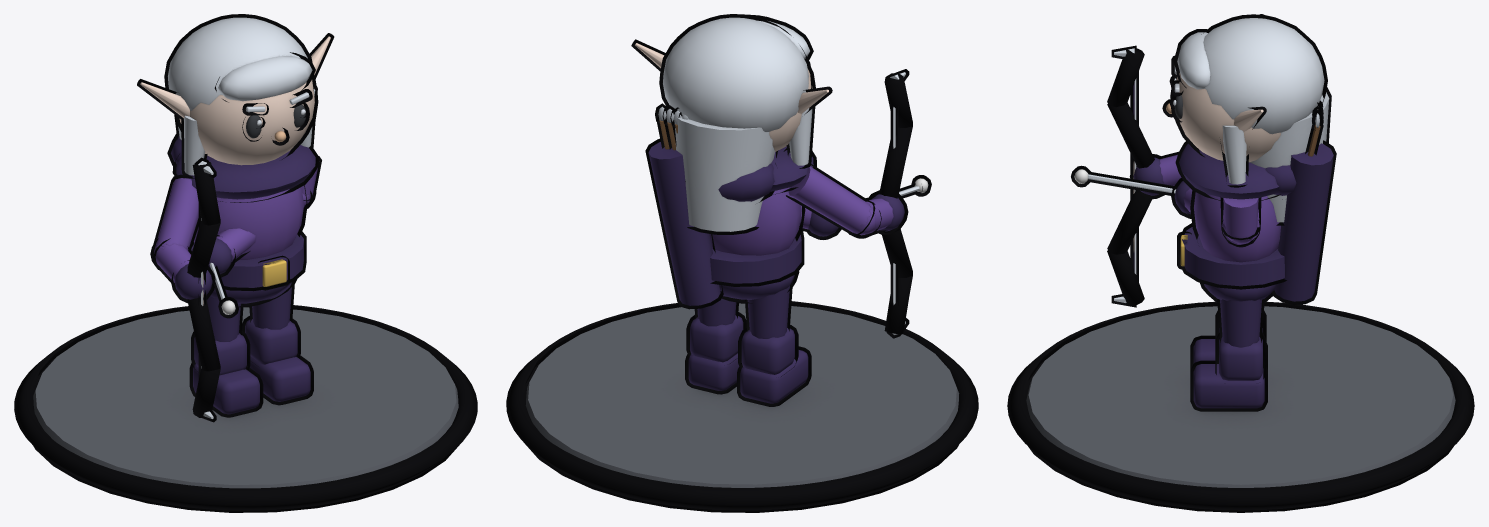
Rendered from moon_archer.fbx.
The picture shows the model from 3 angles, left to right: view 1: azimuth 30°, elevation 25°; view 2: azimuth 150°, elevation 25°; view 3: azimuth 270°, elevation 25°; orthographic projection.
Parts seen in each view (by area): view 1: moon_archer; view 2: moon_archer; view 3: moon_archer.
Part boxes in pixels (x1,y1,x2,y2): moon_archer: [14, 14, 477, 512]; moon_archer: [506, 14, 978, 512]; moon_archer: [1007, 14, 1474, 512].
Size of the model in its own units: 1.58 by 1.48 by 1.58.
Materials: 2 (1 with a texture image).
